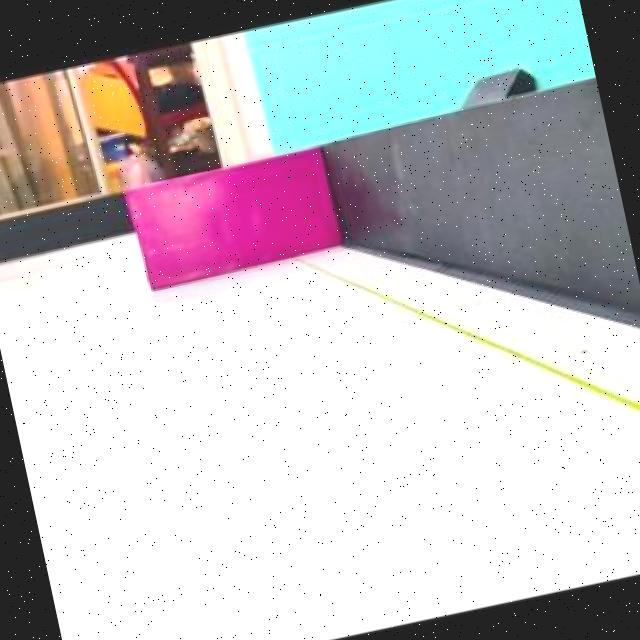xparking: (128, 148, 338, 286)
